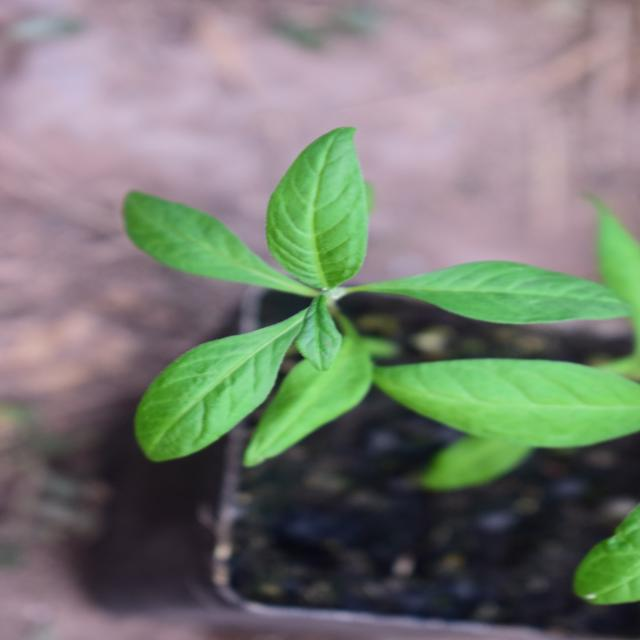white_smart_weed: (144, 41, 480, 546)
